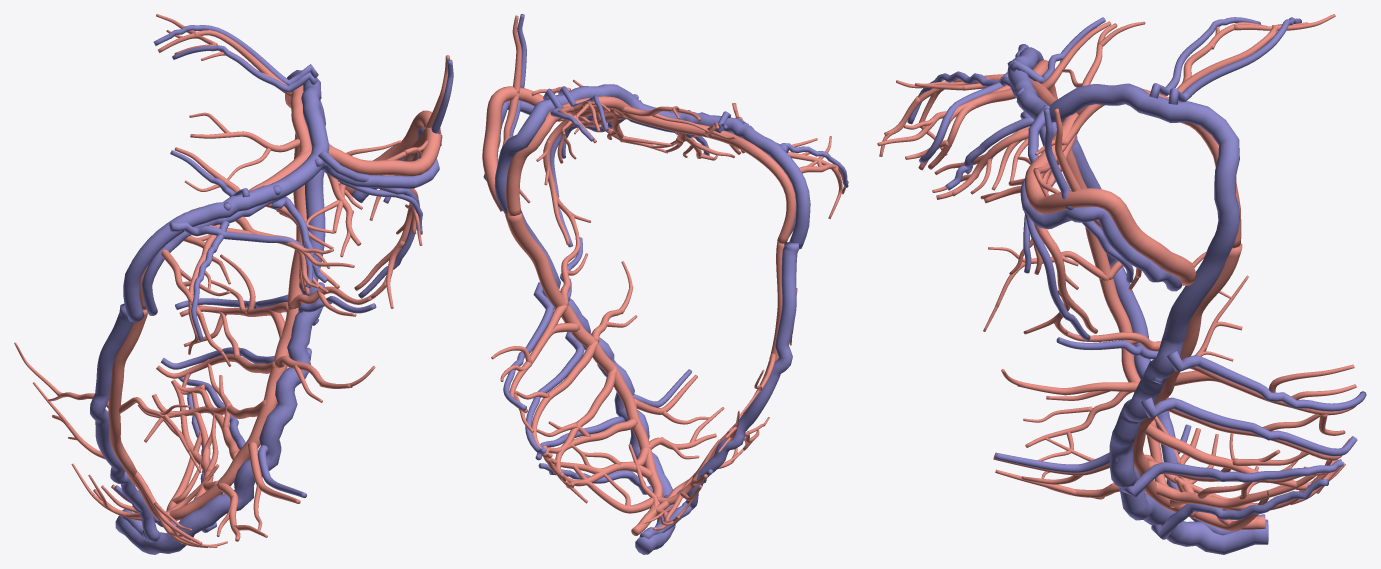
Rendered from vessels_5.glb.
3 renders of one model, left to right at view 1: azimuth 30°, elevation 25°; view 2: azimuth 150°, elevation 25°; view 3: azimuth 270°, elevation 25°, orthographic. The views are drawn at different scales.
Visible parts, largest first — view 1: Renderer Node; view 2: Renderer Node; view 3: Renderer Node.
Part boxes in pixels (x1,y1,x2,y2): Renderer Node: (14, 14, 453, 554); Renderer Node: (482, 14, 848, 554); Renderer Node: (877, 14, 1366, 554).
Size of the model in its own units: 90.21 by 117 by 89.9.
